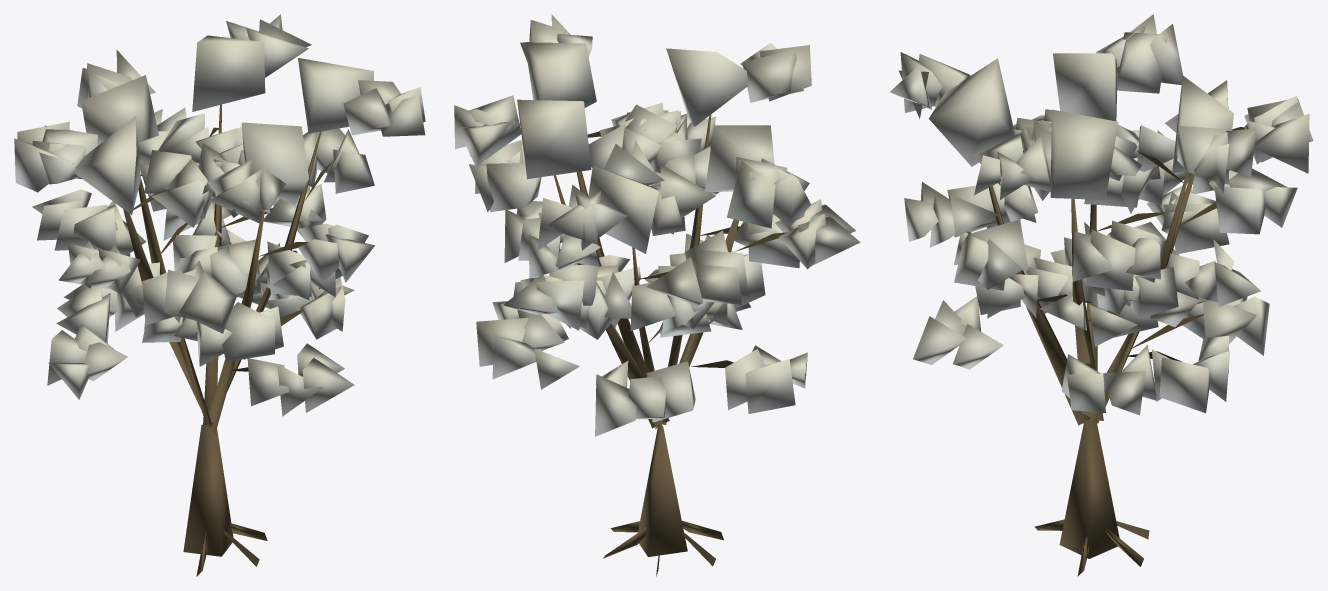
3 renders of one model, left to right at view 1: azimuth 30°, elevation 25°; view 2: azimuth 150°, elevation 25°; view 3: azimuth 270°, elevation 25°, orthographic. The views are drawn at different scales.
Parts seen in each view (by area): view 1: crown, trunk; view 2: crown, trunk; view 3: crown, trunk.
Boxes of the visible parts, <box> form: crown: <box>14,14,425,416</box>; trunk: <box>123,104,333,576</box>; crown: <box>454,14,860,436</box>; trunk: <box>553,114,786,576</box>; crown: <box>889,14,1313,415</box>; trunk: <box>988,66,1244,576</box>.
Size of the model in its own units: 10.91 by 14.04 by 10.96.
